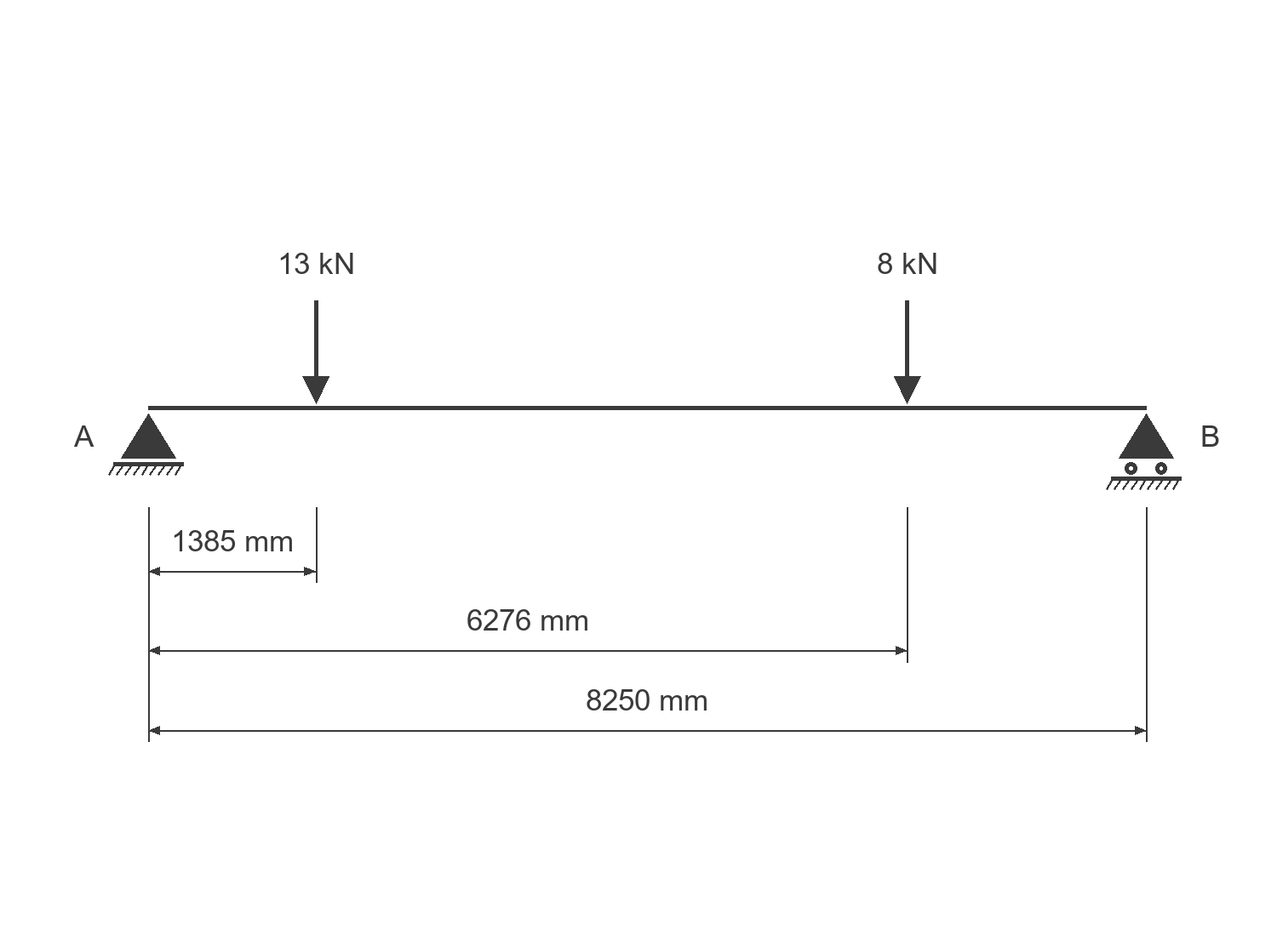pin_support: (108, 414, 184, 476)
point_load: (302, 300, 329, 404), (894, 300, 921, 404)
roller_support: (1106, 414, 1182, 490)
